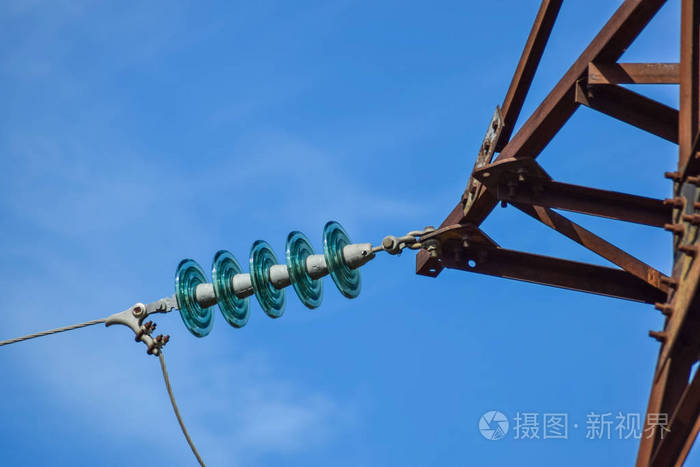insulator: (175, 221, 360, 339)
